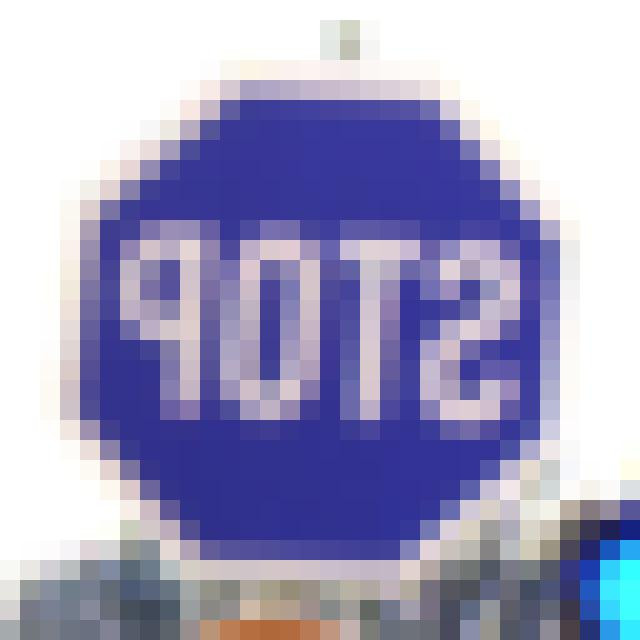STOP: (60, 78, 554, 558)
